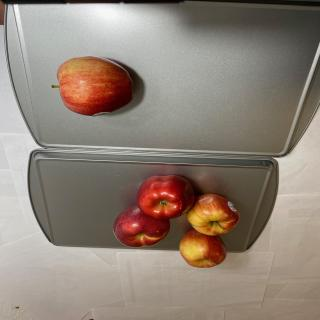Apple: (52, 56, 134, 116), (136, 174, 195, 220), (113, 205, 170, 248), (186, 193, 240, 236), (179, 229, 227, 268)
